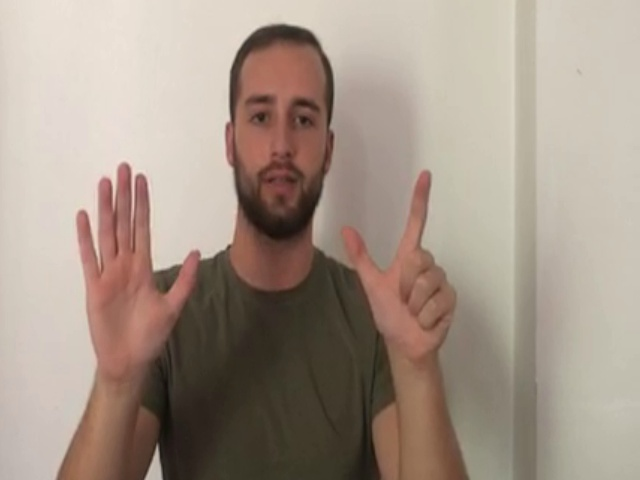Pet i Sedumnaeset: (70, 155, 459, 376)
